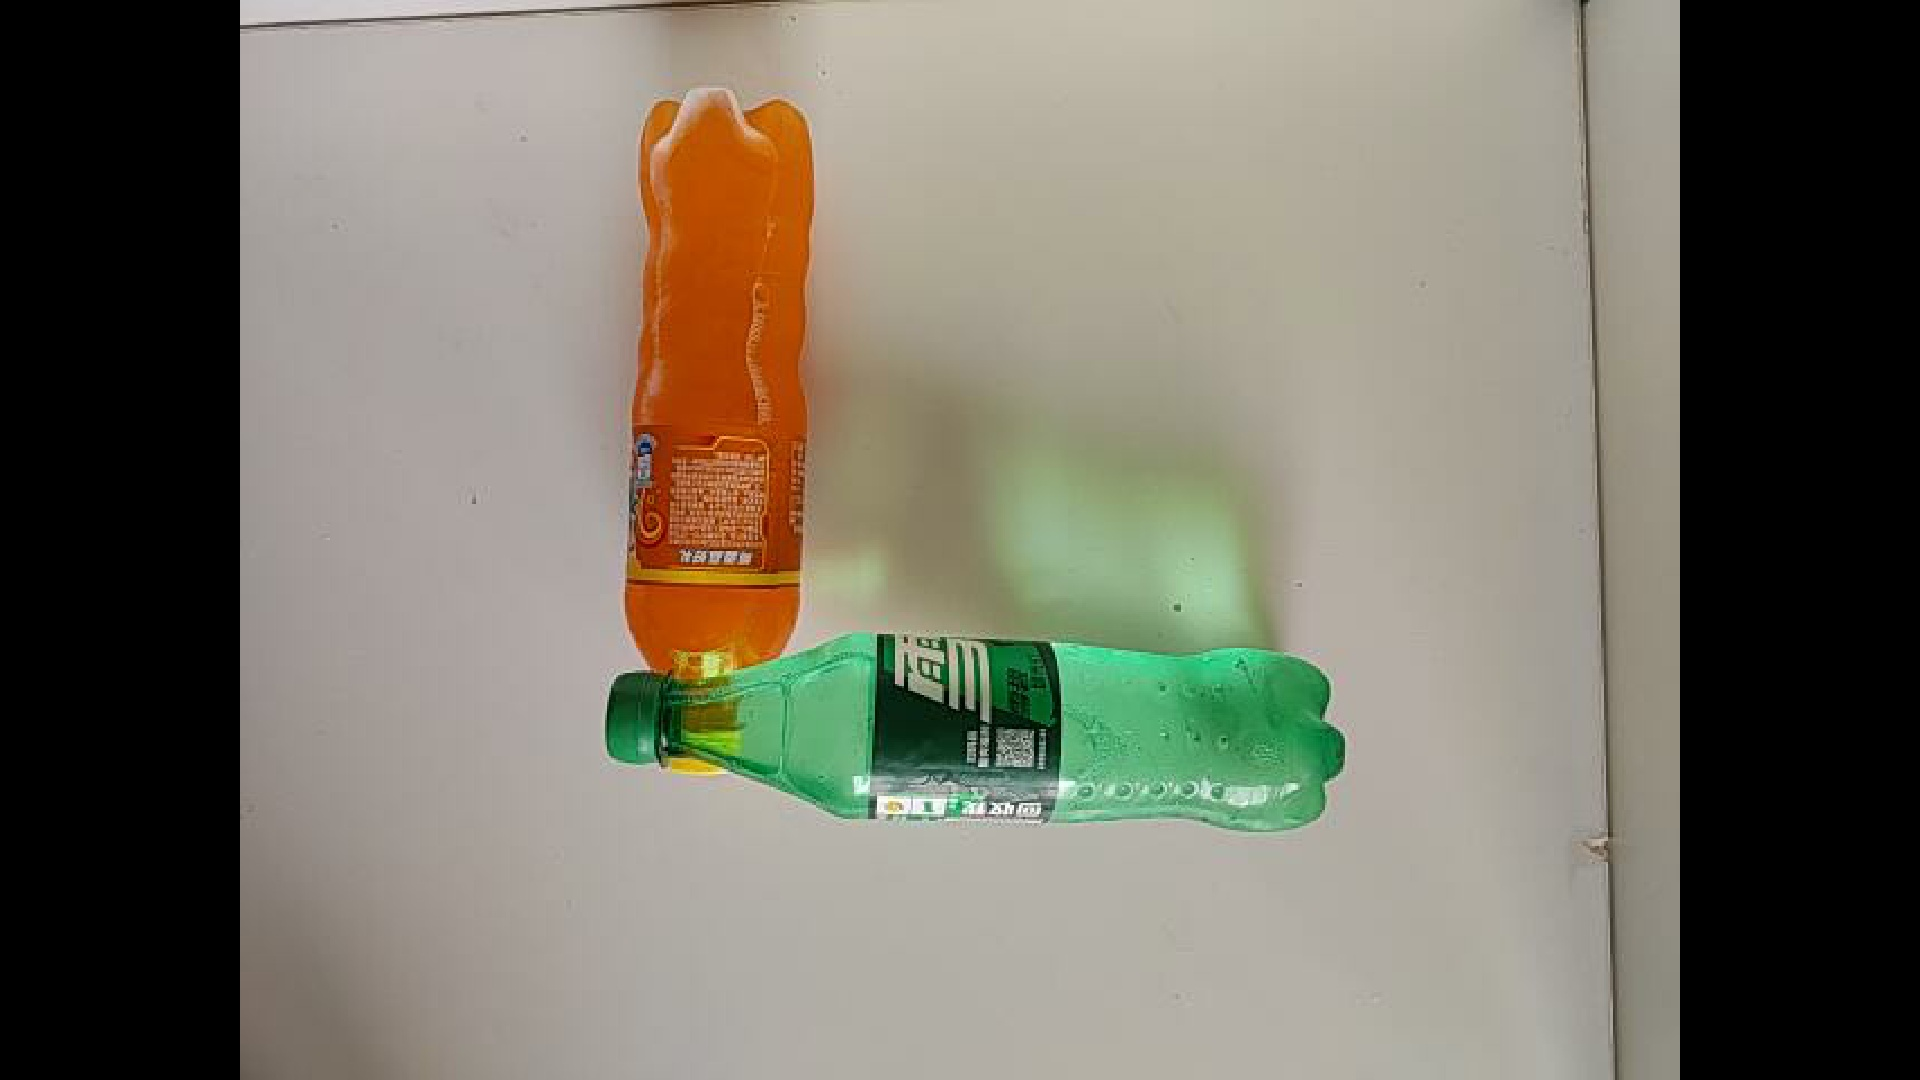fenta: (600, 82, 820, 779)
sprite: (595, 618, 1352, 828)
